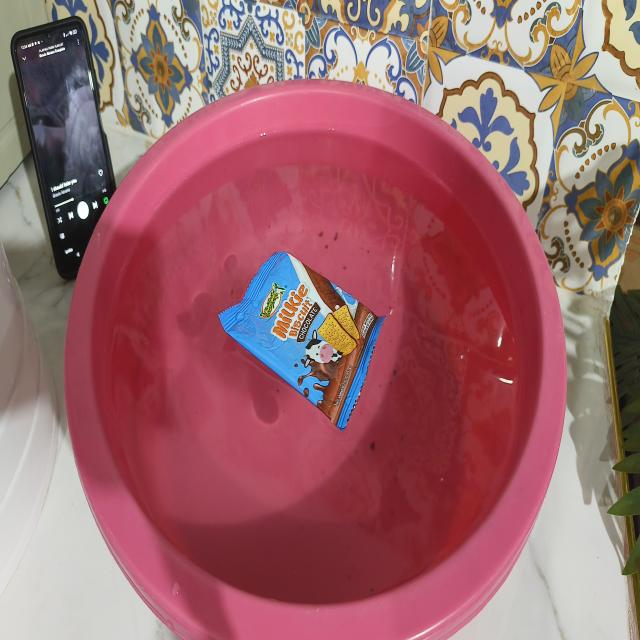Plastic Wrapper: (219, 251, 386, 429)
